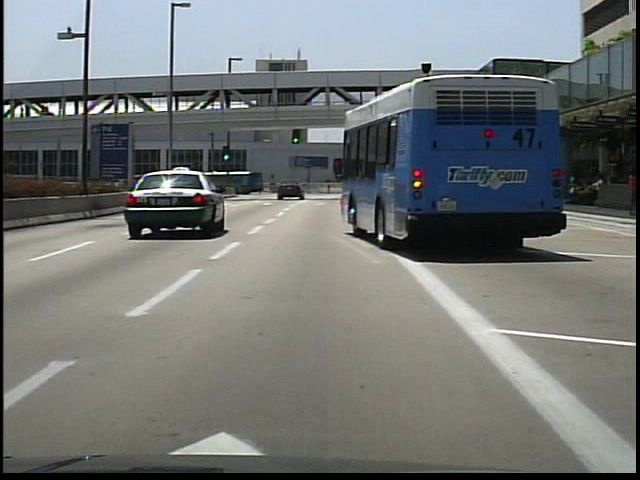person: (564, 170, 578, 205)
